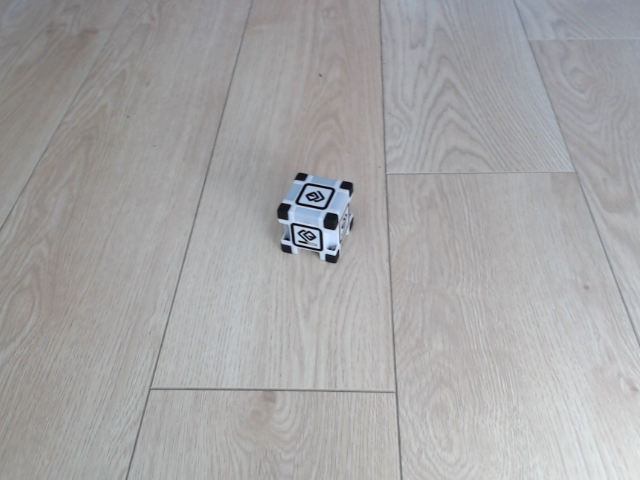block: (271, 169, 359, 270)
